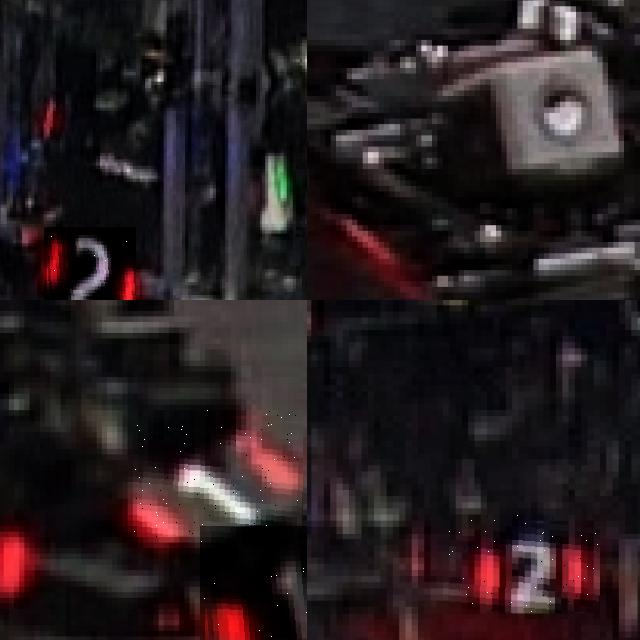R1: (133, 410, 303, 537), (199, 526, 307, 640)
R2: (443, 515, 600, 613), (43, 227, 136, 300)
